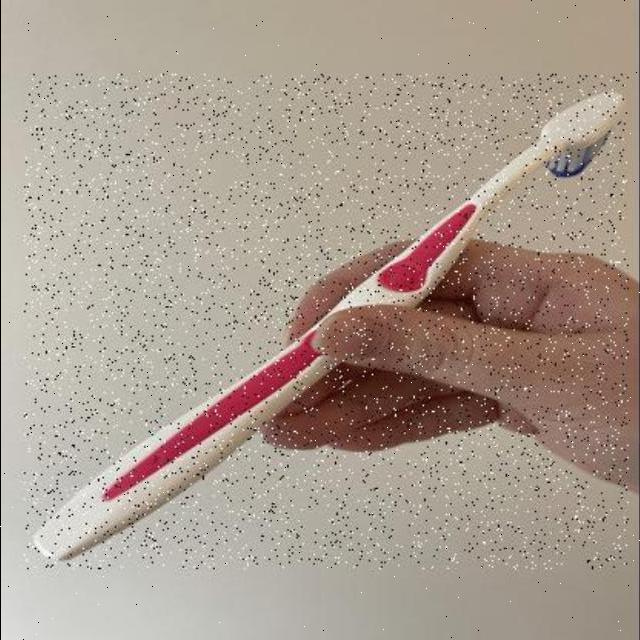toothbrush: (25, 75, 629, 570)
